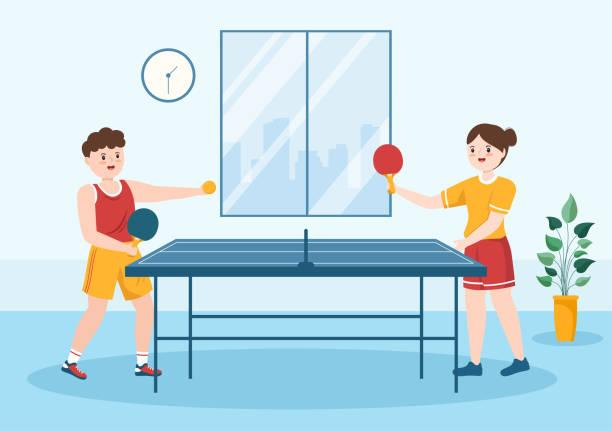ball_pingpong: (202, 181, 218, 194)
